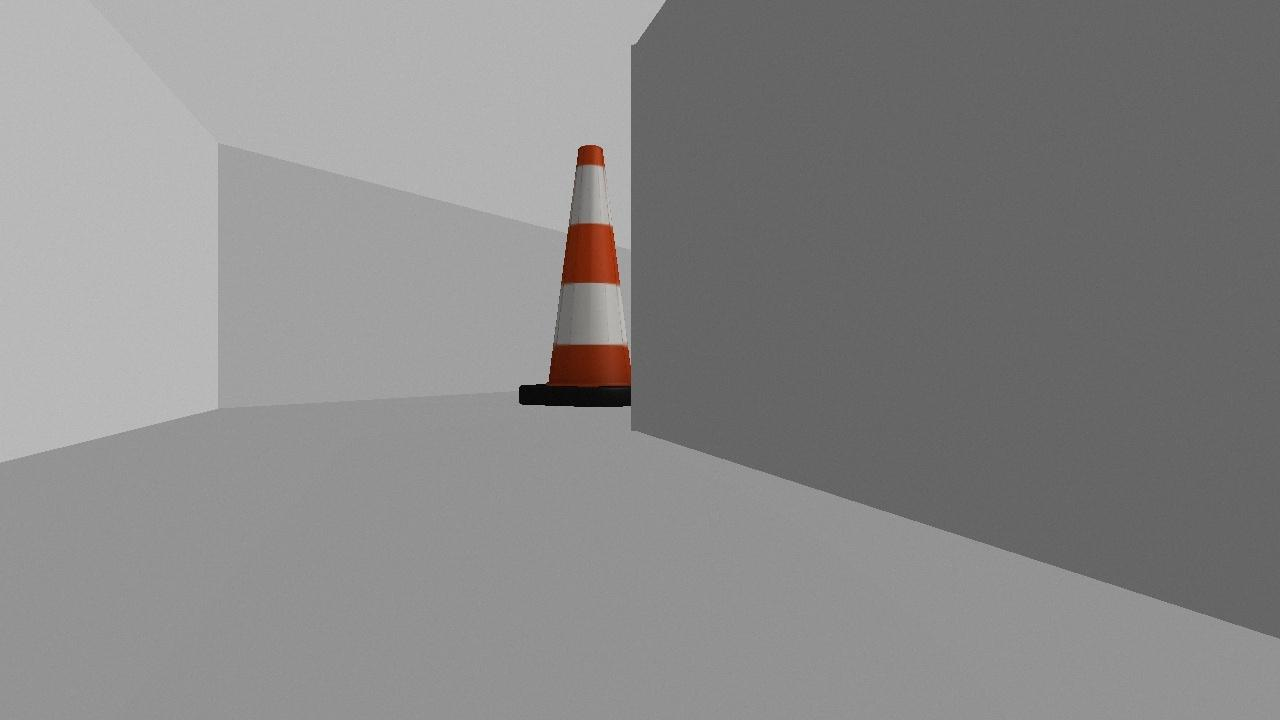cone_barrel: (515, 144, 665, 407)
